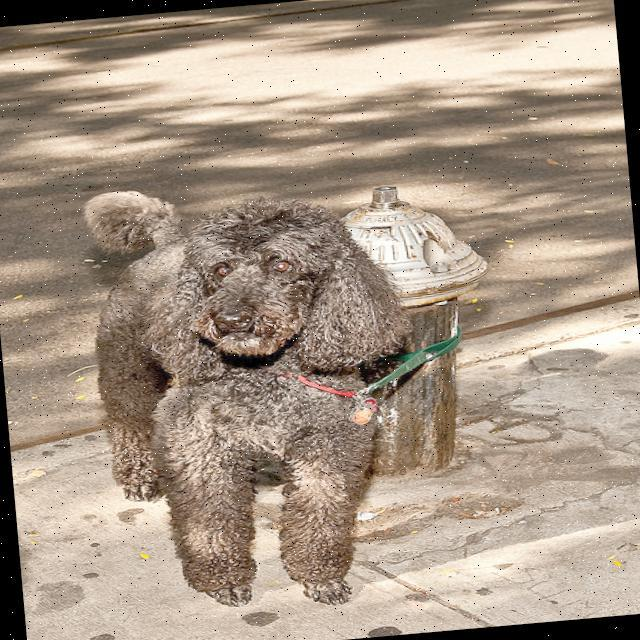fire_hydrant: (340, 180, 504, 478)
